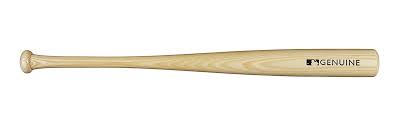bat: (19, 46, 381, 79)
